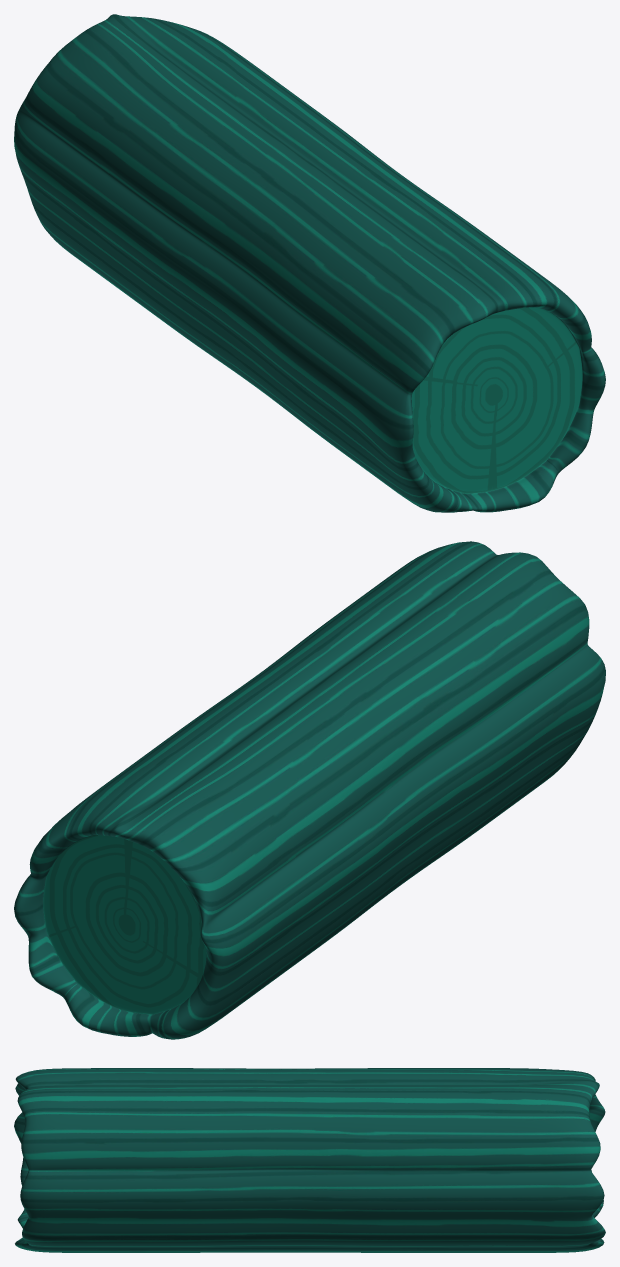
File: Log.fbx
3 views of the same model, one above another, from view 1: azimuth 30°, elevation 25°; view 2: azimuth 150°, elevation 25°; view 3: azimuth 270°, elevation 25° (orthographic). The views are drawn at different scales.
Parts seen in each view (by area): view 1: pCylinder1; view 2: pCylinder1; view 3: pCylinder1.
Boxes of the visible parts, x1,y1,x2,y2 form: pCylinder1: (14,14,605,512); pCylinder1: (14,541,605,1039); pCylinder1: (14,1068,605,1252).
Bounding box in the file's own units: 3.87 × 3.82 × 12.45.
Materials: 2 (2 with a texture image).
